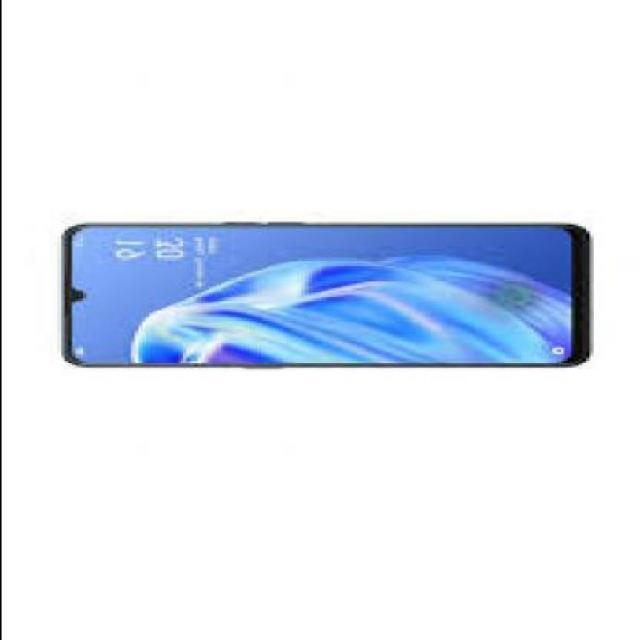phone: (56, 219, 592, 370)
